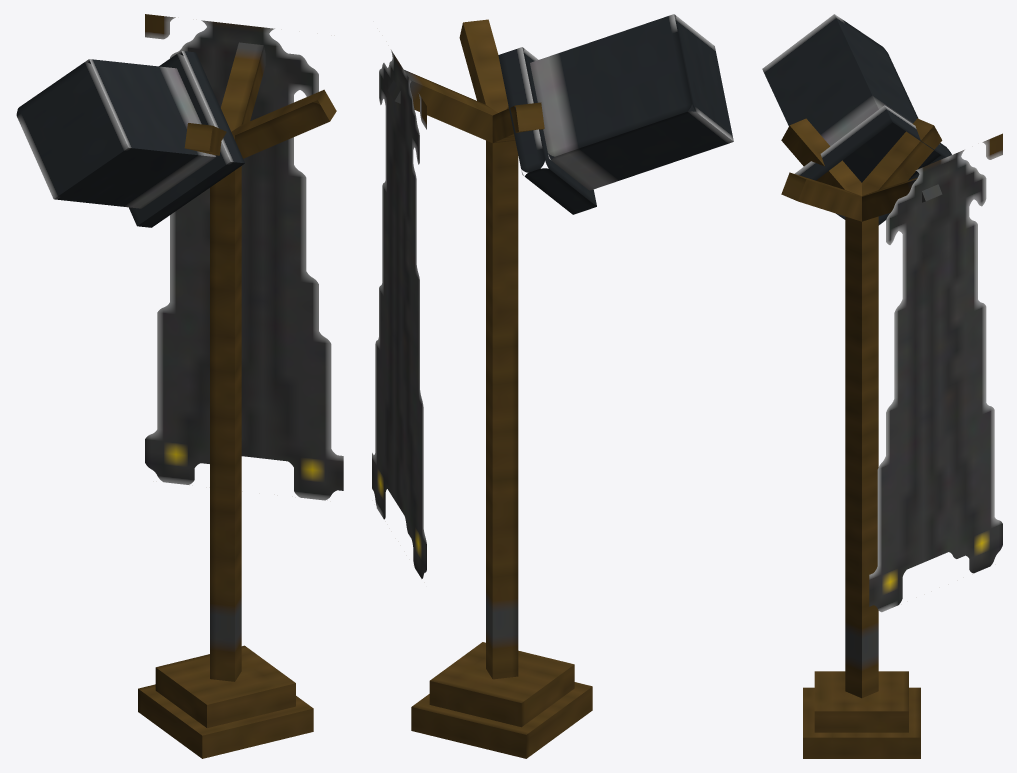
Rendered from coatrack.obj.
The picture shows the model from 3 angles, left to right: view 1: azimuth 30°, elevation 25°; view 2: azimuth 150°, elevation 25°; view 3: azimuth 270°, elevation 25°; orthographic projection. The views are drawn at different scales.
Parts seen in each view (by area): view 1: coat, Hat1, c9, c1, c2, Hat2, c10, c14, c12; view 2: Hat1, coat, c9, c1, c2, Hat2, c14, c10, c13; view 3: coat, c9, Hat1, c1, Hat2, c2, c13, c12, c10, c14.
Boxes of the visible parts, box(x1,y1,x2,y2) form: coat: box(145, 14, 343, 500); Hat1: box(16, 59, 215, 208); c9: box(210, 166, 241, 681); c1: box(155, 645, 295, 727); c2: box(138, 684, 313, 758); Hat2: box(129, 51, 244, 227); c10: box(231, 89, 336, 158); c14: box(221, 42, 265, 131); c12: box(184, 123, 234, 155); Hat1: box(530, 14, 733, 190); coat: box(372, 50, 426, 578); c9: box(486, 140, 518, 679); c1: box(429, 642, 574, 727); c2: box(411, 682, 592, 758); Hat2: box(498, 47, 596, 214); c14: box(387, 70, 497, 142); c10: box(459, 19, 508, 112); c13: box(489, 102, 544, 144); coat: box(869, 133, 1002, 612); c9: box(845, 216, 878, 698); Hat1: box(762, 14, 918, 146); c1: box(814, 671, 908, 732); Hat2: box(795, 105, 951, 225); c2: box(803, 687, 920, 758); c13: box(862, 118, 942, 195); c12: box(781, 118, 861, 195); c10: box(781, 172, 867, 221); c14: box(854, 177, 942, 223).
Size of the model in its own units: 0.8991 by 1.91 by 0.6377.
